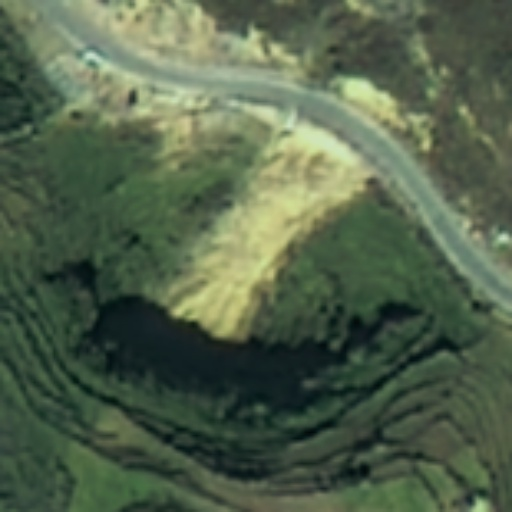landslide: (171, 133, 363, 344), (106, 1, 302, 66)
